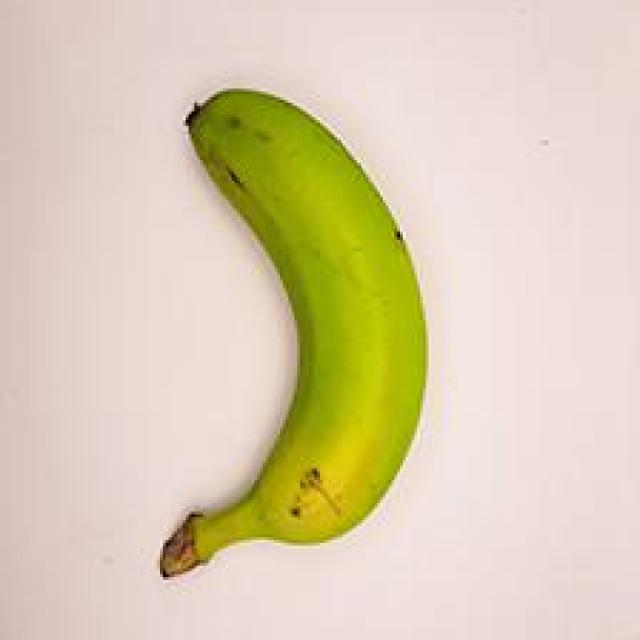Unripe: (101, 70, 443, 587)
